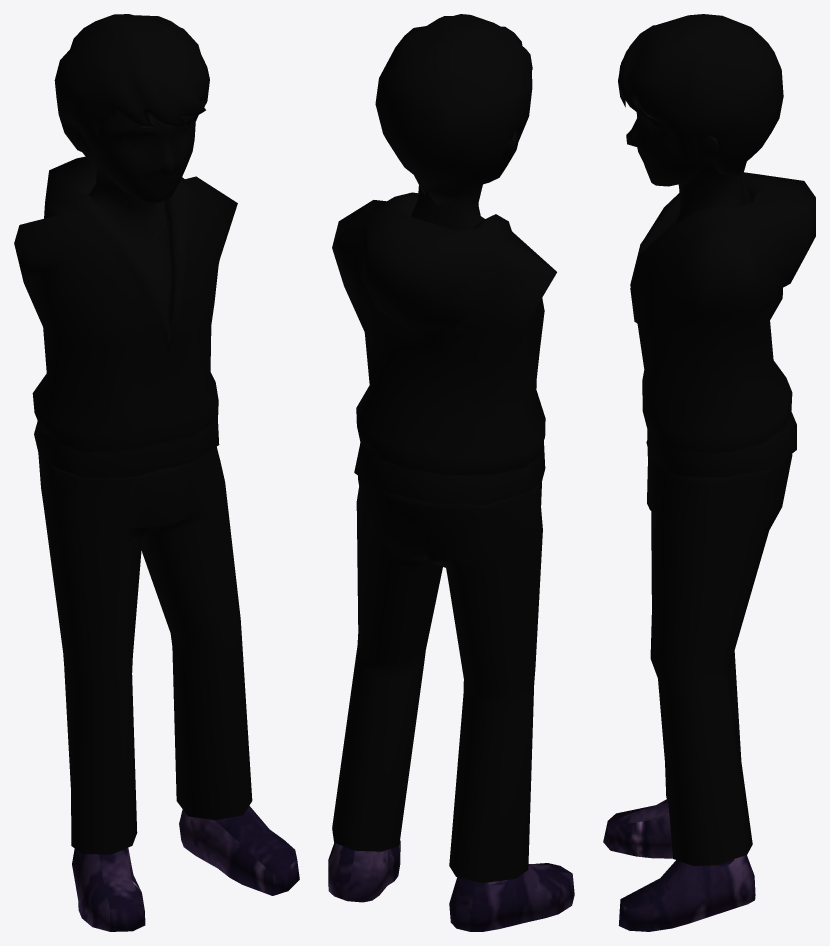
File: statue.glb
3 views of the same model, side by side, from view 1: azimuth 30°, elevation 25°; view 2: azimuth 150°, elevation 25°; view 3: azimuth 270°, elevation 25° (orthographic). The views are drawn at different scales.
Visible parts, largest first — view 1: Statue_greek_01_Art; view 2: Statue_greek_01_Art; view 3: Statue_greek_01_Art.
Boxes of the visible parts, left/top/right/bottom form: Statue_greek_01_Art: left=14, top=14, right=299, bottom=931; Statue_greek_01_Art: left=328, top=14, right=574, bottom=931; Statue_greek_01_Art: left=603, top=14, right=815, bottom=931.
Size of what is drawn, in the model's own units: 0.5743 by 1.95 by 0.44.
1 material, 1 textured.
